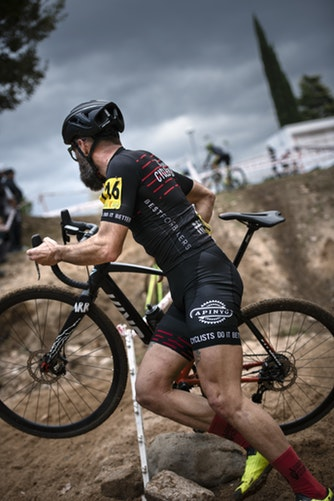helmet: (60, 91, 124, 151)
